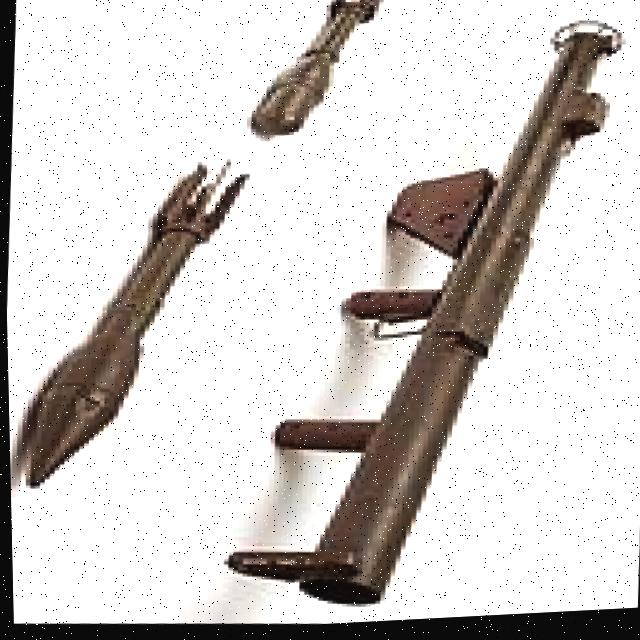grenade: (3, 143, 274, 496), (242, 0, 397, 141)
rocket: (213, 7, 636, 626)
